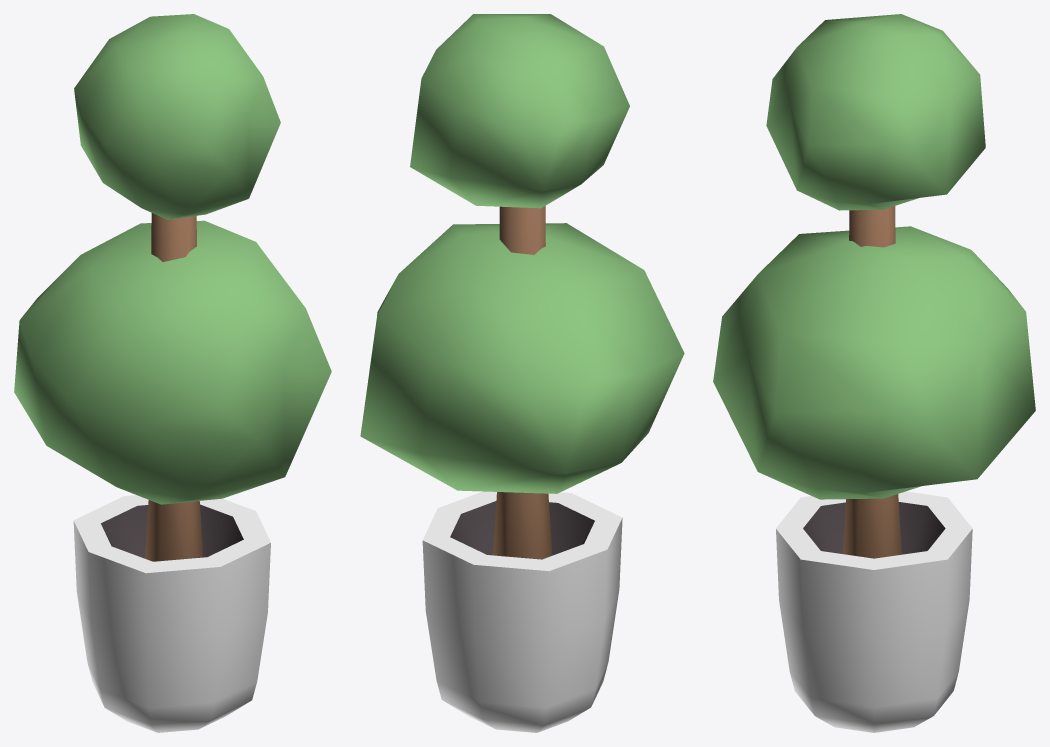
Rendered from PlantPotB2_geo.fbx.
3 views of the same model, side by side, from view 1: azimuth 30°, elevation 25°; view 2: azimuth 150°, elevation 25°; view 3: azimuth 270°, elevation 25° (orthographic).
Parts seen in each view (by area): view 1: PlantPotB2_geo; view 2: PlantPotB2_geo; view 3: PlantPotB2_geo.
Boxes of the visible parts, box(x1,y1,x2,y2) form: PlantPotB2_geo: box(14, 14, 331, 732); PlantPotB2_geo: box(360, 14, 684, 732); PlantPotB2_geo: box(713, 14, 1035, 732).
Size of the model in its own units: 0.7245 by 0.7391 by 1.75.
